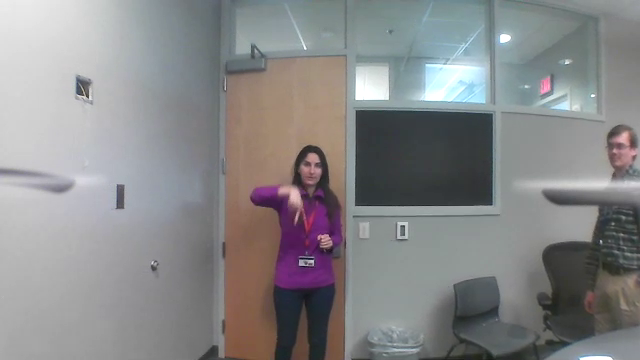down: (284, 179, 306, 230)
